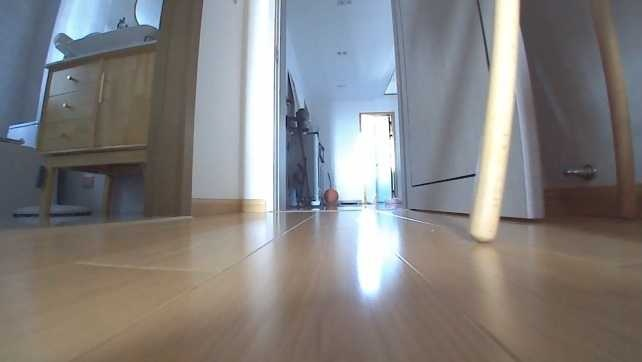door_anno: (389, 1, 547, 221)
toilet: (0, 118, 60, 213)
washstand: (33, 38, 155, 219)
